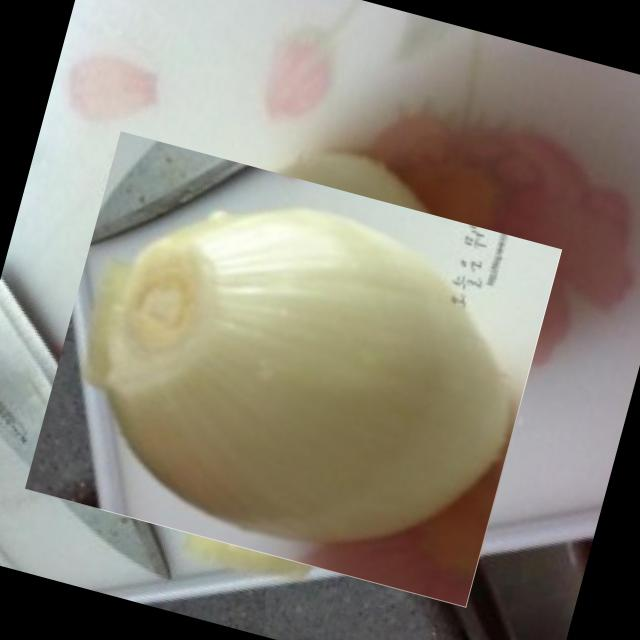Onion: (39, 115, 546, 622)
